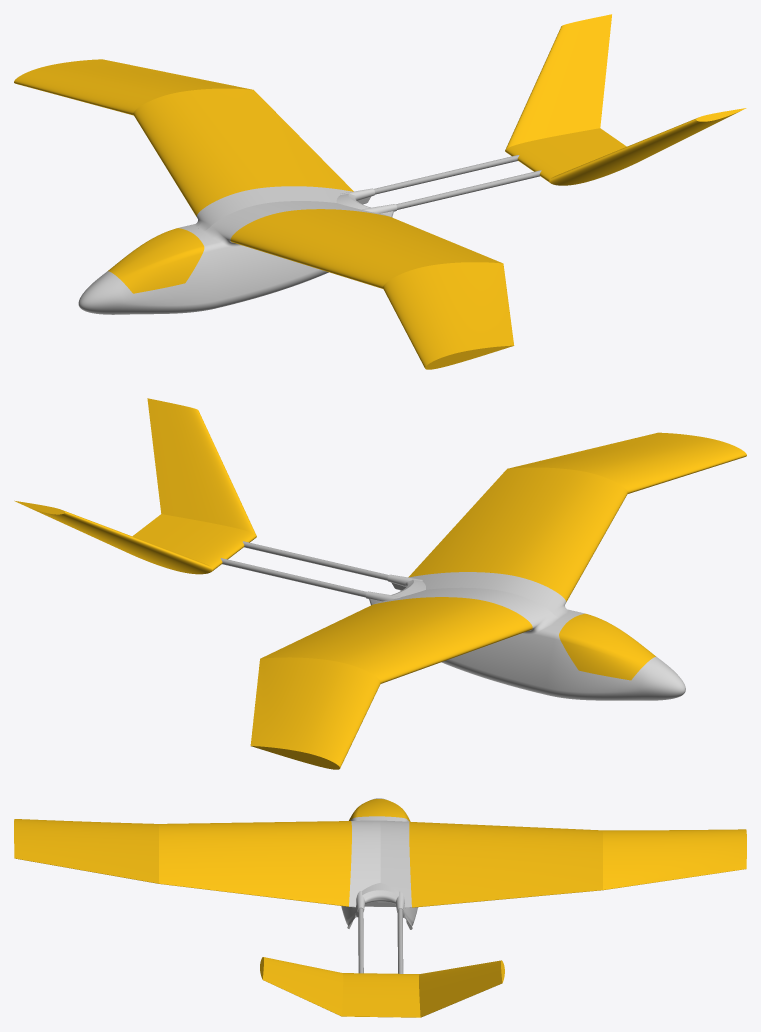
The model's file is avion.glb.
3 renders of one model, top to bottom at view 1: azimuth 30°, elevation 25°; view 2: azimuth 150°, elevation 25°; view 3: azimuth 270°, elevation 25°, orthographic. The views are drawn at different scales.
Parts seen in each view (by area): view 1: mesh6, mesh13, mesh16, mesh83, mesh9, mesh171, mesh78, mesh105, mesh97, mesh88, mesh51, mesh65 (+5 smaller); view 2: mesh13, mesh6, mesh9, mesh88, mesh16, mesh109, mesh78, mesh101, mesh95, mesh83, mesh65, mesh51 (+5 smaller); view 3: mesh6, mesh13, mesh16, mesh9, mesh78, mesh83, mesh88, mesh51, mesh65, mesh97, mesh95, mesh90.
Boxes of the visible parts, left/top/right/bottom form: mesh6: left=133, top=88, right=353, bottom=216; mesh13: left=230, top=209, right=502, bottom=288; mesh16: left=383, top=262, right=513, bottom=367; mesh83: left=505, top=14, right=611, bottom=149; mesh9: left=14, top=59, right=251, bottom=113; mesh171: left=208, top=245, right=328, bottom=308; mesh78: left=505, top=128, right=626, bottom=182; mesh105: left=111, top=234, right=217, bottom=314; mesh97: left=113, top=234, right=204, bottom=293; mesh88: left=549, top=111, right=739, bottom=185; mesh51: left=196, top=186, right=351, bottom=225; mesh65: left=211, top=201, right=388, bottom=241; mesh13: left=408, top=467, right=627, bottom=601; mesh6: left=261, top=597, right=532, bottom=683; mesh9: left=250, top=657, right=380, bottom=767; mesh88: left=147, top=398, right=256, bottom=535; mesh16: left=508, top=432, right=746, bottom=492; mesh109: left=441, top=632, right=555, bottom=695; mesh78: left=132, top=514, right=256, bottom=570; mesh101: left=547, top=621, right=652, bottom=700; mesh95: left=559, top=620, right=650, bottom=680; mesh83: left=26, top=506, right=212, bottom=574; mesh65: left=408, top=572, right=566, bottom=611; mesh51: left=374, top=587, right=551, bottom=628; mesh6: left=409, top=822, right=602, bottom=907; mesh13: left=158, top=821, right=351, bottom=906; mesh16: left=14, top=819, right=158, bottom=883; mesh9: left=602, top=829, right=746, bottom=889; mesh78: left=342, top=973, right=420, bottom=1017; mesh83: left=419, top=960, right=502, bottom=1017; mesh88: left=262, top=957, right=343, bottom=1016; mesh51: left=380, top=820, right=411, bottom=907; mesh65: left=349, top=820, right=380, bottom=906; mesh97: left=349, top=799, right=379, bottom=820; mesh95: left=379, top=799, right=410, bottom=821; mesh90: left=358, top=908, right=363, bottom=973.
Bounding box in the file's own units: 0.947 × 0.2349 × 1.12.
